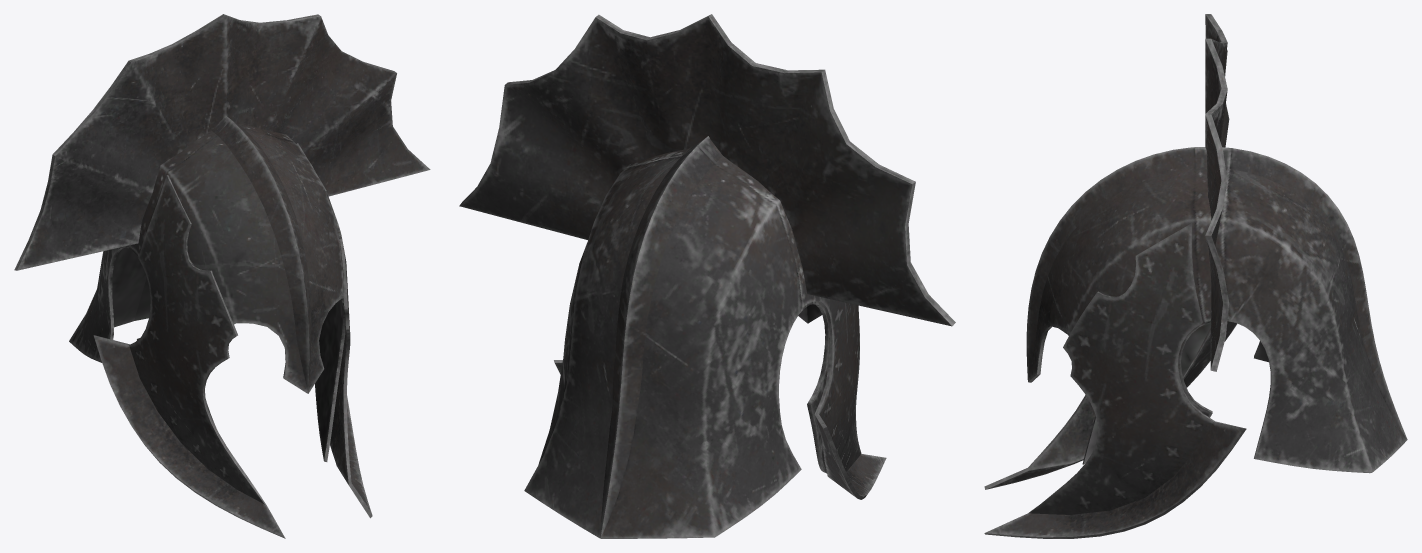
File: sk_uruk_mordor_helmet_elite_d2.fbx
3 views of the same model, side by side, from view 1: azimuth 30°, elevation 25°; view 2: azimuth 150°, elevation 25°; view 3: azimuth 270°, elevation 25° (orthographic). The views are drawn at different scales.
Parts seen in each view (by area): view 1: sk_uruk_mordor_helmet_elite_d2; view 2: sk_uruk_mordor_helmet_elite_d2; view 3: sk_uruk_mordor_helmet_elite_d2.
Part boxes in pixels (x1,y1,x2,y2): sk_uruk_mordor_helmet_elite_d2: (14, 14, 430, 538); sk_uruk_mordor_helmet_elite_d2: (459, 14, 955, 538); sk_uruk_mordor_helmet_elite_d2: (984, 14, 1407, 538).
Size of the model in its own units: 0.4166 by 0.3415 by 0.4217.
Materials: 1 (1 with a texture image).
